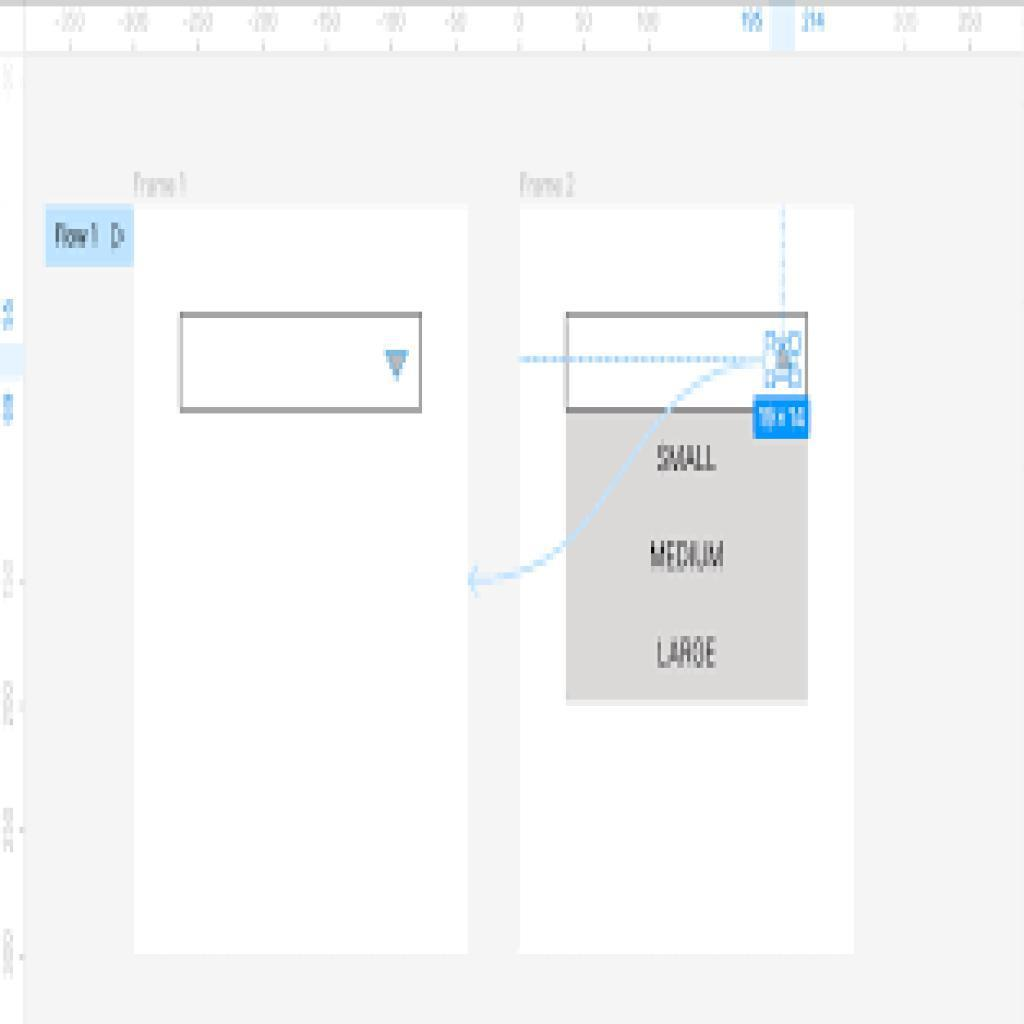dropdown: (180, 314, 423, 414)
